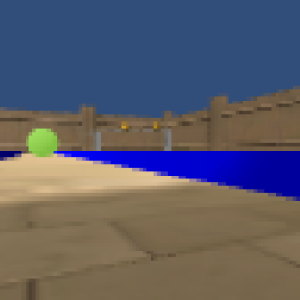goodGoal: (26, 128, 58, 159)
goodGoalMulti: (120, 119, 131, 133), (152, 120, 160, 133)
platform: (54, 150, 300, 201), (1, 150, 21, 164)
wall: (92, 128, 102, 151), (164, 128, 172, 150)
